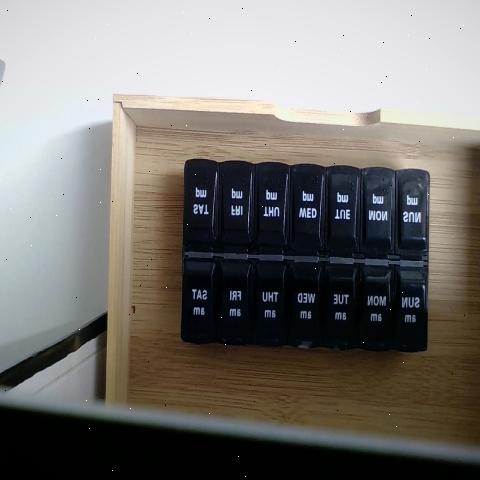FRI-am: (215, 255, 249, 342)
FRI-pm: (215, 163, 252, 249)
MON-am: (359, 258, 392, 346)
MON-pm: (358, 169, 394, 256)
SAT-am: (184, 251, 215, 342)
SAT-pm: (183, 160, 215, 246)
SUN-am: (393, 258, 428, 349)
SUN-pm: (395, 172, 429, 257)
THU-am: (253, 253, 283, 339)
THU-pm: (252, 164, 286, 250)
TUE-am: (320, 262, 358, 346)
TUE-pm: (322, 166, 360, 258)
WED-am: (284, 259, 320, 348)
WED-pm: (284, 161, 324, 253)
